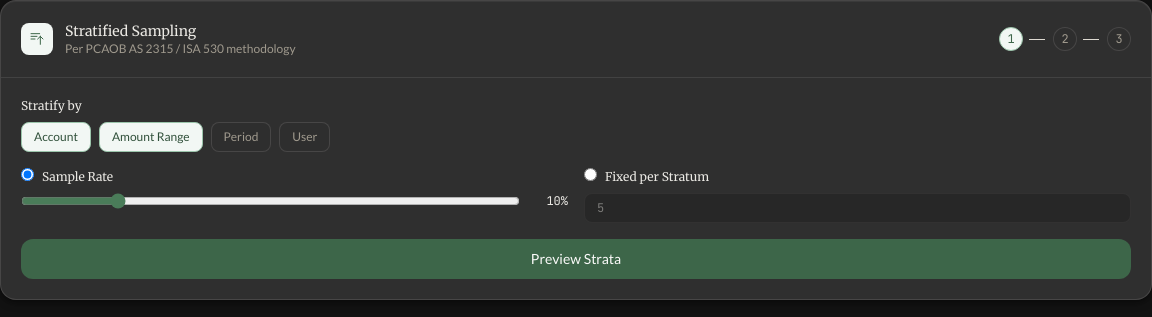
Test: SamplingPanel › shows loading text during preview
Click the button "Preview Strata" at (576, 259), box [21,239,1131,279]
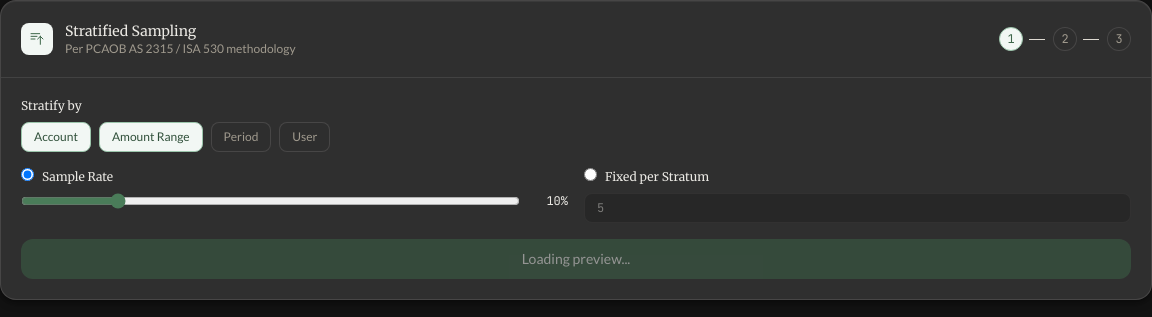
Result: the button "Loading preview..." is shown at [21,239,1131,279]
